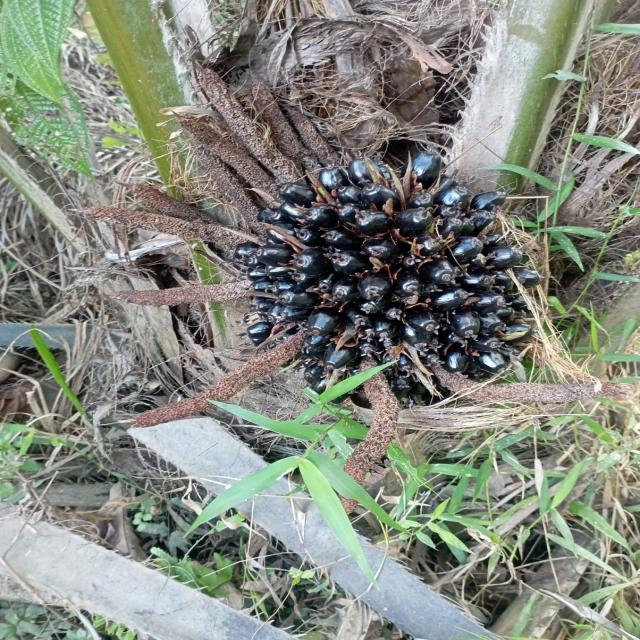fraksi 00: (184, 112, 556, 435)
